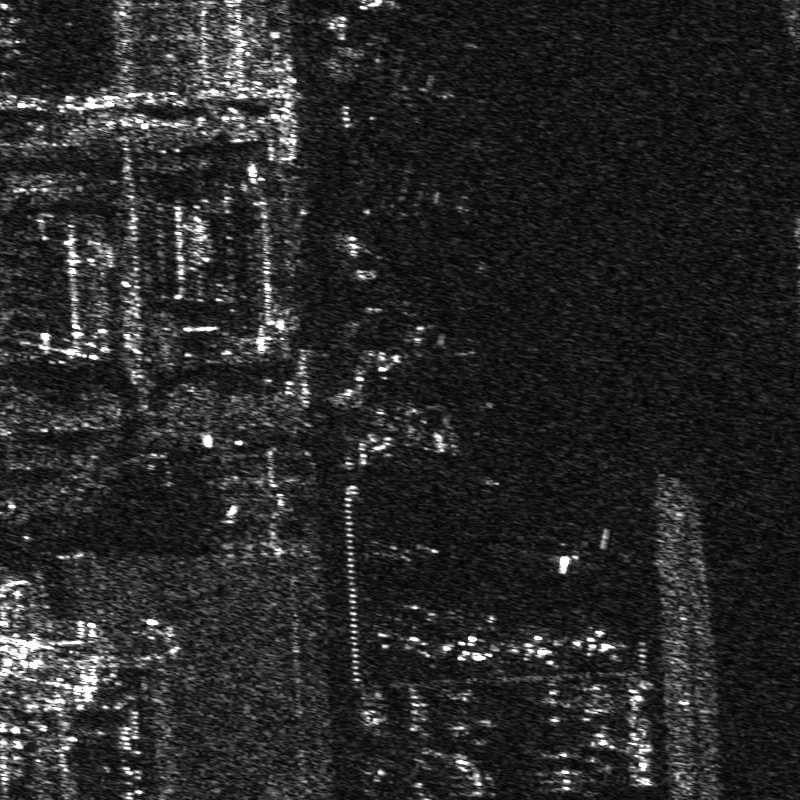A220: (358, 320, 478, 392)
A320/321: (352, 157, 479, 260)
ARJ21: (442, 631, 500, 664)
other: (373, 65, 460, 131), (507, 626, 563, 668), (571, 625, 628, 665)
